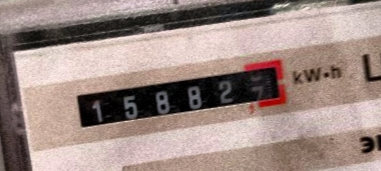1: (89, 95, 106, 126)
2: (215, 78, 235, 106)
5: (120, 92, 141, 124)
7: (249, 83, 264, 102)
8: (151, 88, 171, 118), (184, 83, 204, 112)
screen: (62, 50, 295, 142)
